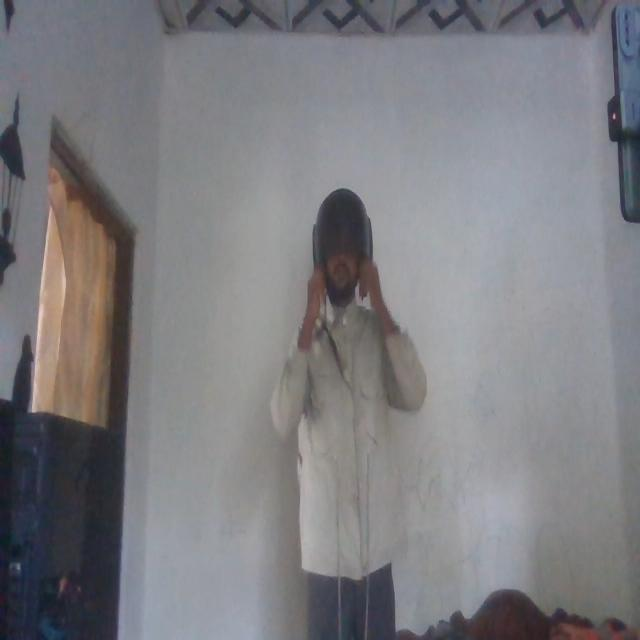Helmet_Wearer: (298, 187, 374, 311)
Jacket_Wearer: (272, 289, 426, 560)
Person: (262, 185, 422, 640)
